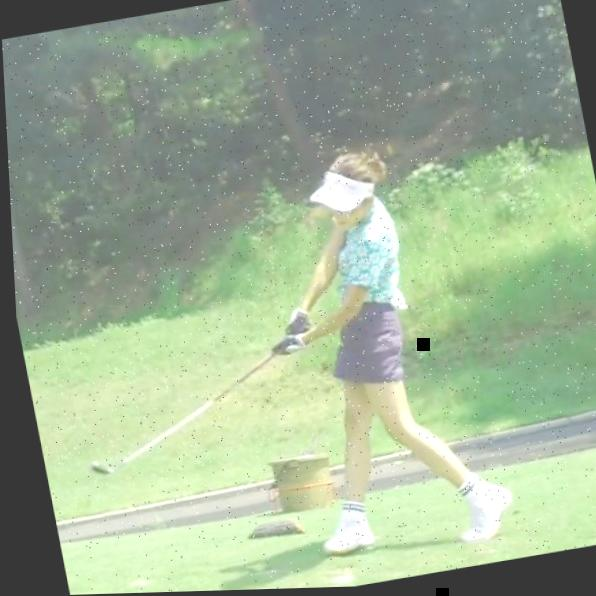ClubHead: (83, 457, 111, 479)
